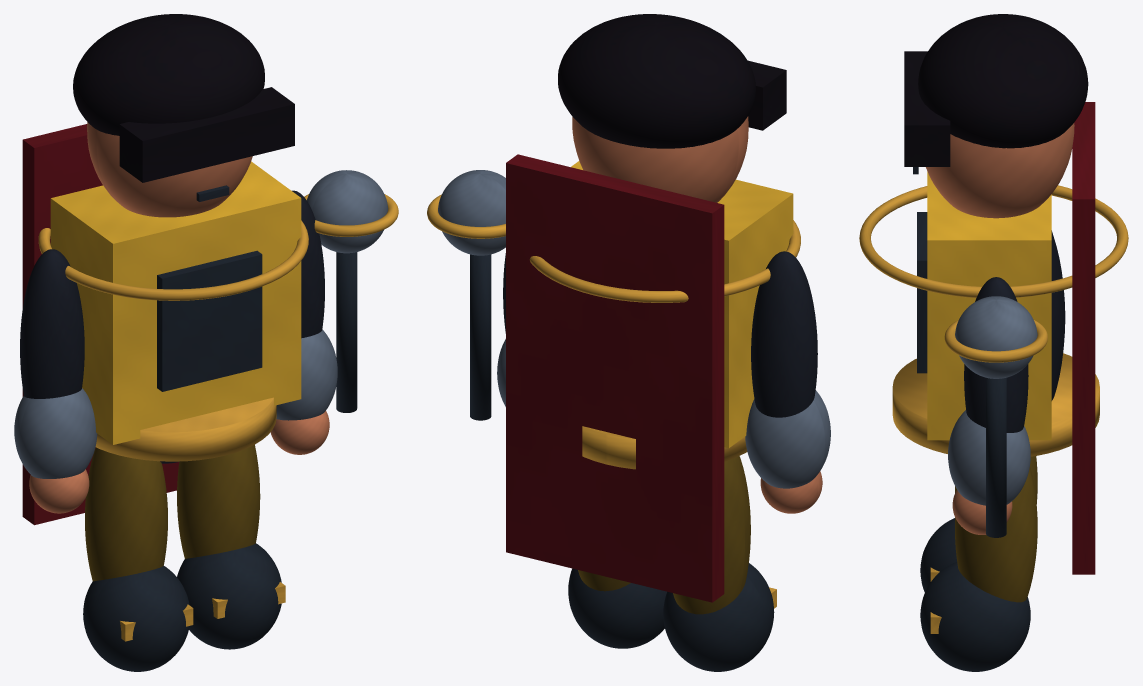
The model's file is Foundation.glb.
The picture shows the model from 3 angles, left to right: view 1: azimuth 30°, elevation 25°; view 2: azimuth 150°, elevation 25°; view 3: azimuth 270°, elevation 25°; orthographic projection. The views are drawn at different scales.
Parts seen in each view (by area): view 1: ChestPlate, Hair, ChestInset, HairFringe, Leg, Boot, Boot.001, Arm, Cape, Leg.001, Head, WaistGuard (+9 smaller); view 2: Cape, Hair, ChestPlate, Arm, Head, Boot, Gauntlet, Boot.001, MaceHead, Leg, MaceHandle, ShoulderCrest (+5 smaller); view 3: Hair, ChestPlate, Cape, Head, Boot.001, Leg.001, WaistGuard, ShoulderCrest, MaceHead, Gauntlet.001, HairFringe, MaceHandle (+6 smaller).
Part boxes in pixels (box(x1,y1,x2,y2)): ChestPlate: box(50, 161, 301, 444); Hair: box(73, 14, 264, 135); ChestInset: box(157, 250, 262, 391); HairFringe: box(119, 87, 294, 182); Leg: box(85, 447, 167, 581); Boot: box(83, 566, 189, 671); Boot.001: box(177, 543, 281, 649); Arm: box(20, 249, 84, 398); Cape: box(22, 124, 179, 525); Leg.001: box(177, 444, 260, 558); Head: box(87, 122, 252, 217); WaistGuard: box(95, 397, 276, 461); Cape: box(506, 154, 724, 602); Hair: box(558, 14, 755, 148); ChestPlate: box(571, 161, 793, 448); Arm: box(751, 251, 817, 417); Head: box(572, 116, 748, 202); Boot: box(663, 563, 774, 671); Gauntlet: box(745, 390, 830, 488); Boot.001: box(568, 568, 666, 648); MaceHead: box(438, 170, 505, 255); Leg: box(673, 456, 750, 614); MaceHandle: box(470, 254, 491, 420); ShoulderCrest: box(529, 220, 800, 302); Hair: box(918, 14, 1088, 148); ChestPlate: box(927, 171, 1051, 440); Cape: box(1072, 102, 1095, 574); Head: box(926, 123, 1074, 218); Boot.001: box(920, 562, 1030, 671); Leg.001: box(955, 467, 1037, 602); WaistGuard: box(892, 353, 1099, 456); ShoulderCrest: box(859, 185, 1128, 297); MaceHead: box(955, 296, 1037, 378); Gauntlet.001: box(948, 410, 1030, 505); HairFringe: box(904, 51, 950, 166); MaceHandle: box(986, 377, 1006, 537).
Bounding box in the file's own units: 1.88 × 2.96 × 1.17.
11 materials, 9 textured.
